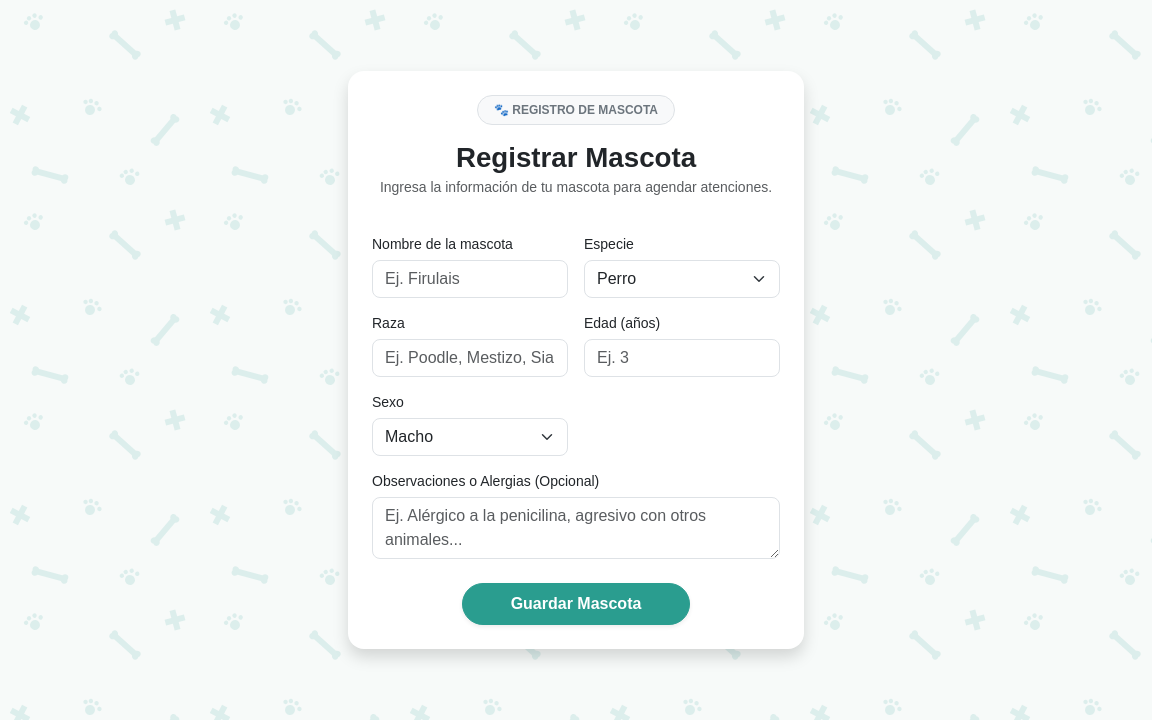
Test: PetForm › guarda la mascota asociada al usuario
Type "Luna" into the field labelled "Nombre de la mascota".
click(470, 279); type("Luna")  # box [372, 260, 568, 298]
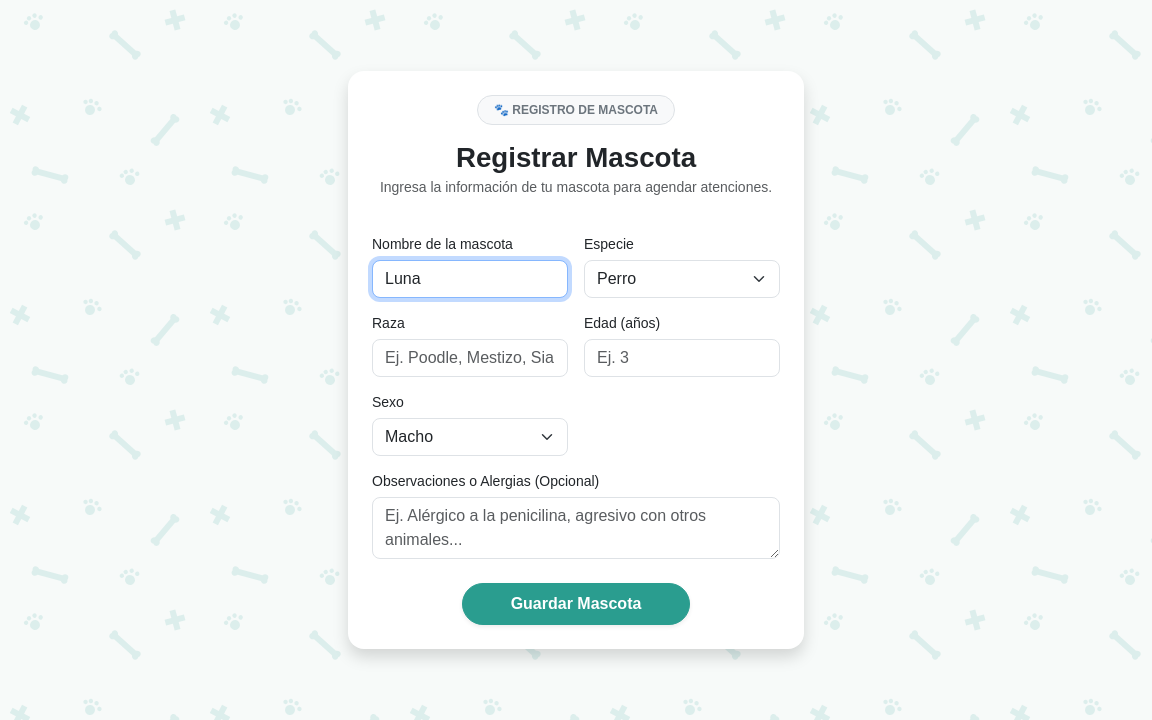
Type "Mestiza" into the field labelled "Raza".
click(470, 358); type("Mestiza")  # box [372, 339, 568, 377]
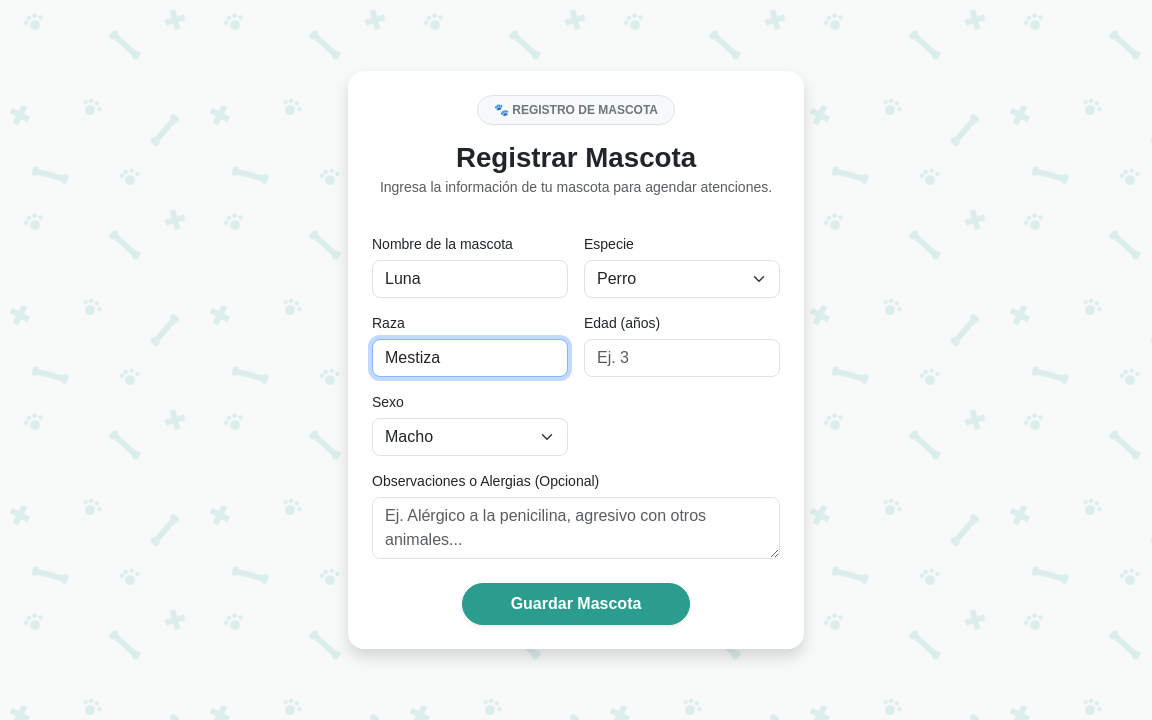
Type "3" into the number field labelled "Edad (años)".
click(682, 358); type("3")  # box [584, 339, 780, 377]
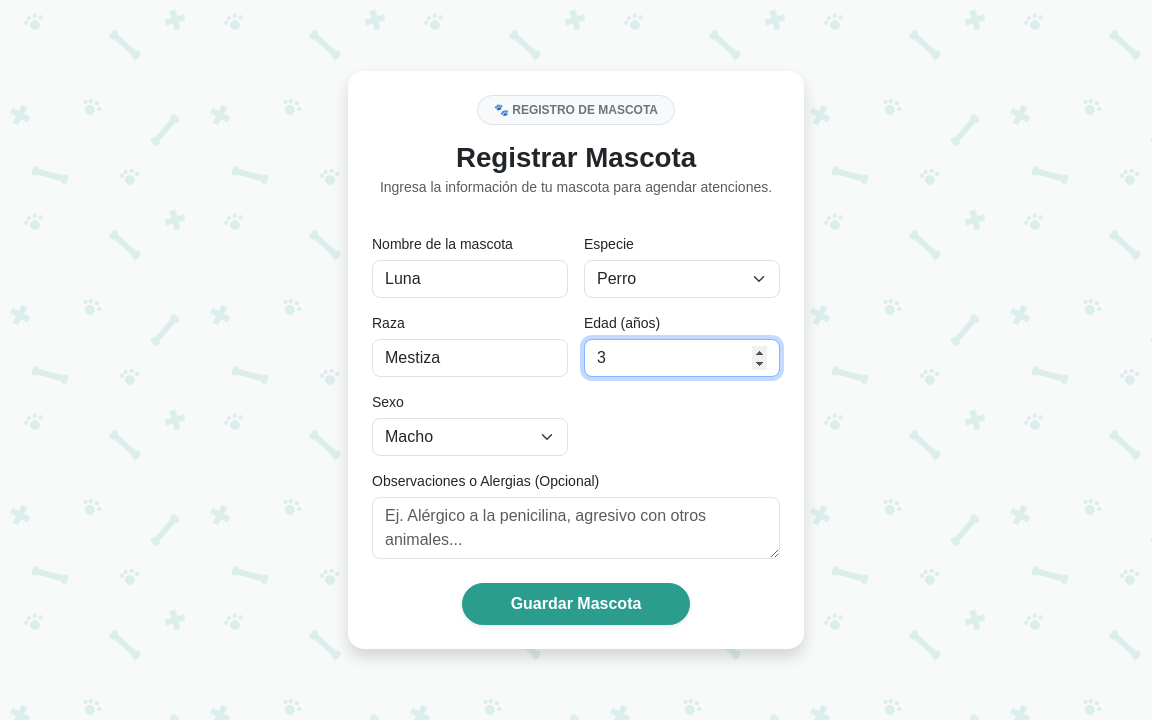
Click the button "Guardar Mascota".
click(576, 604)  # box [462, 583, 690, 625]
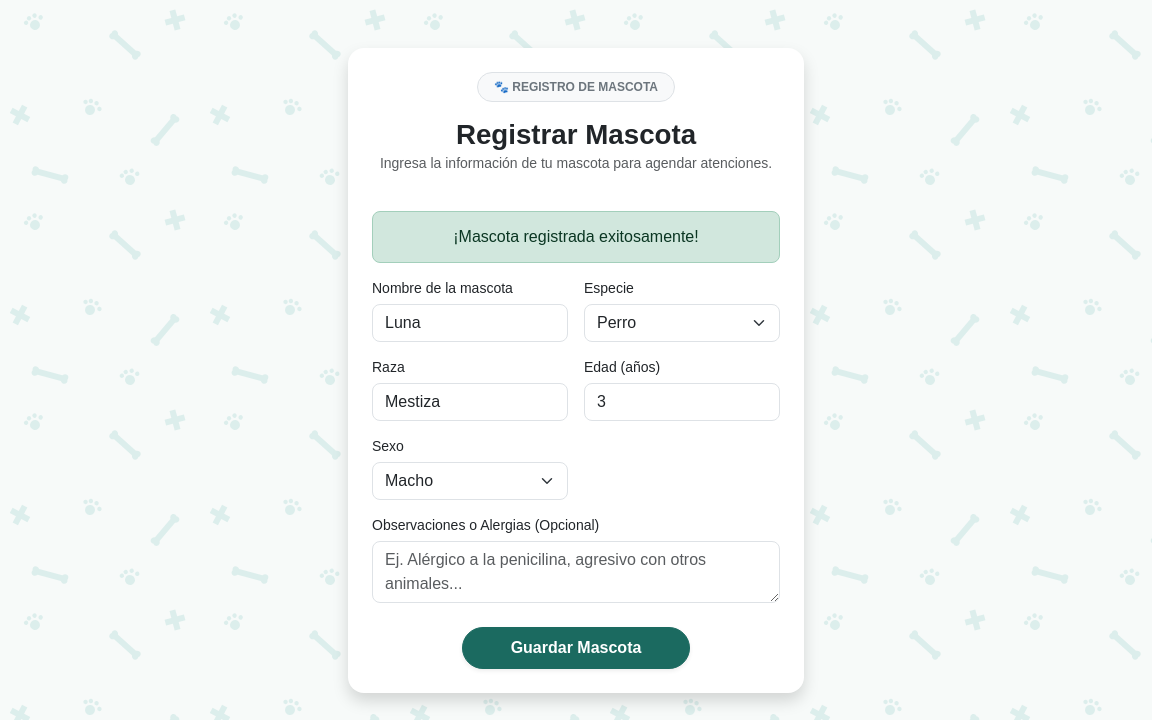
Result: the message reads "¡Mascota registrada exitosamente!" at [453, 228, 699, 245]
